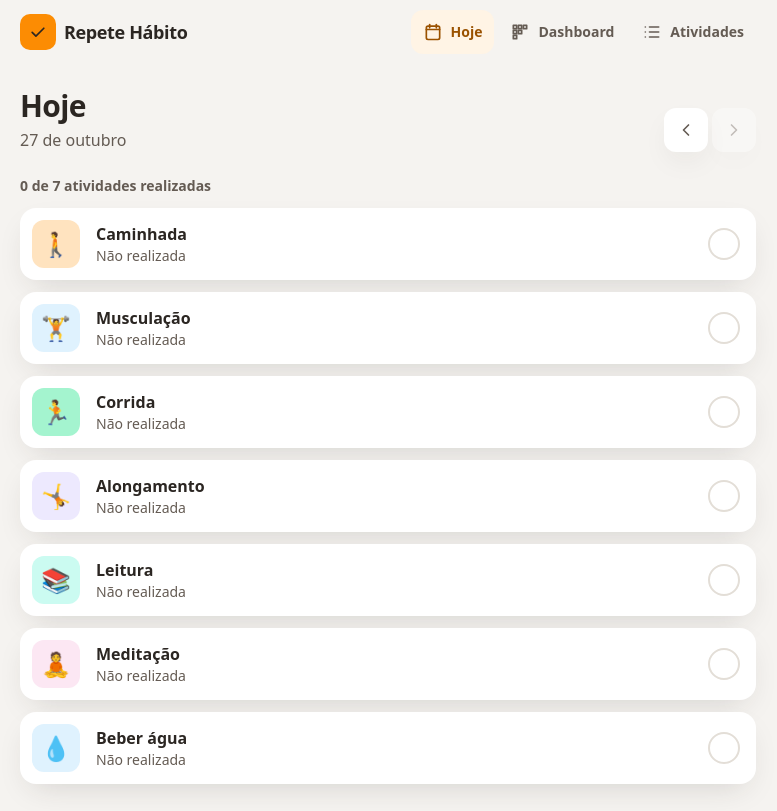
Test: TodayView › TI-01: marca e desmarca a atividade com um toque e atualiza o resumo
Expected: the text "0 de 7 atividades realizadas" is shown, 20,176 -> 211,195
Click the button named "Caminhada não realizada em 27 de outubro" at (56, 244), box 20,208 -> 756,280
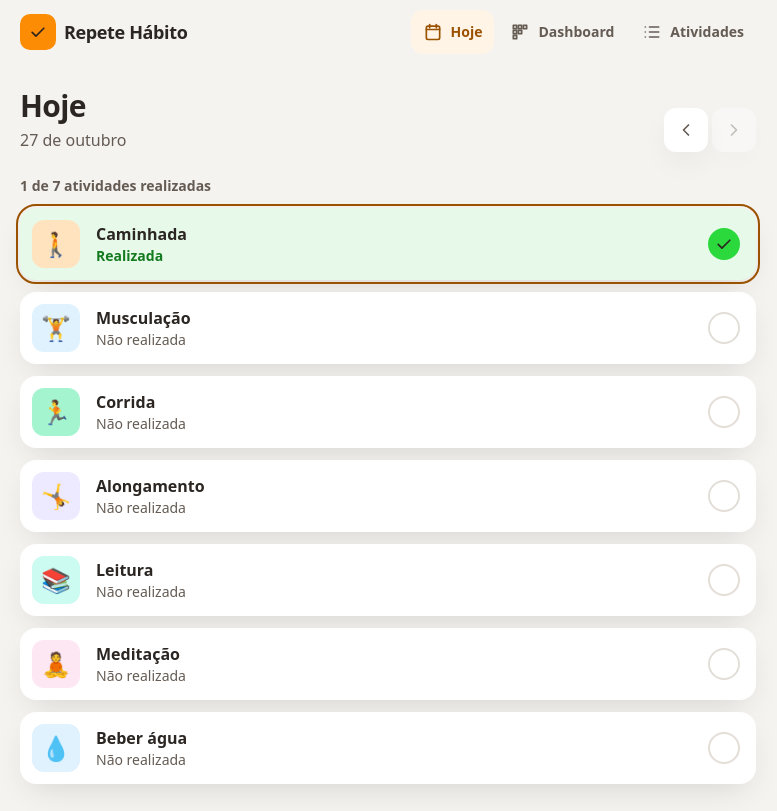
Result: the text "1 de 7 atividades realizadas" is shown at 20,176 -> 211,195
Click the button named "Caminhada realizada em 27 de outubro" at (56, 244), box 20,208 -> 756,280
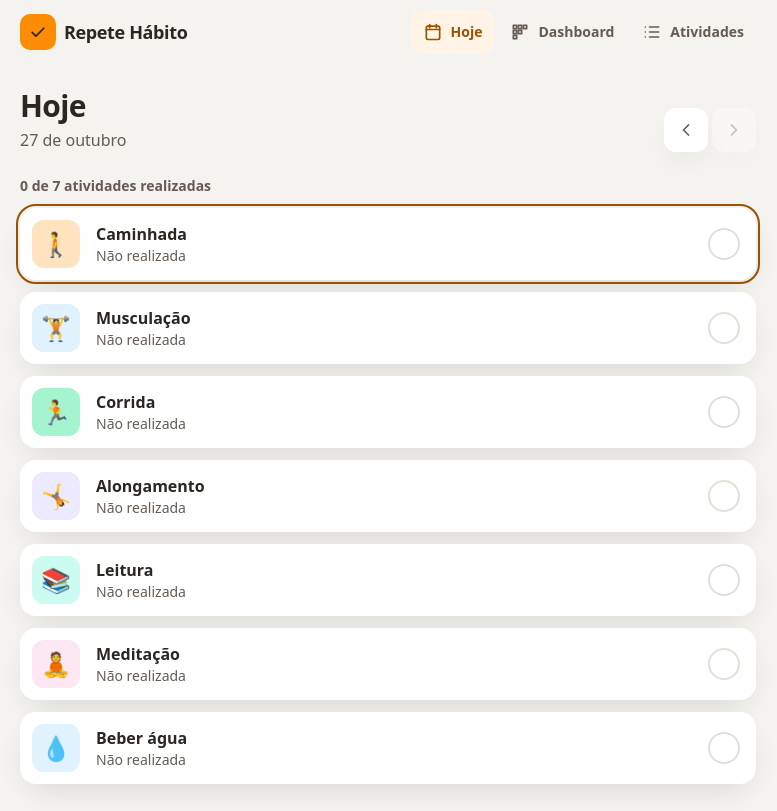
Result: the text "0 de 7 atividades realizadas" is shown at 20,176 -> 211,195
